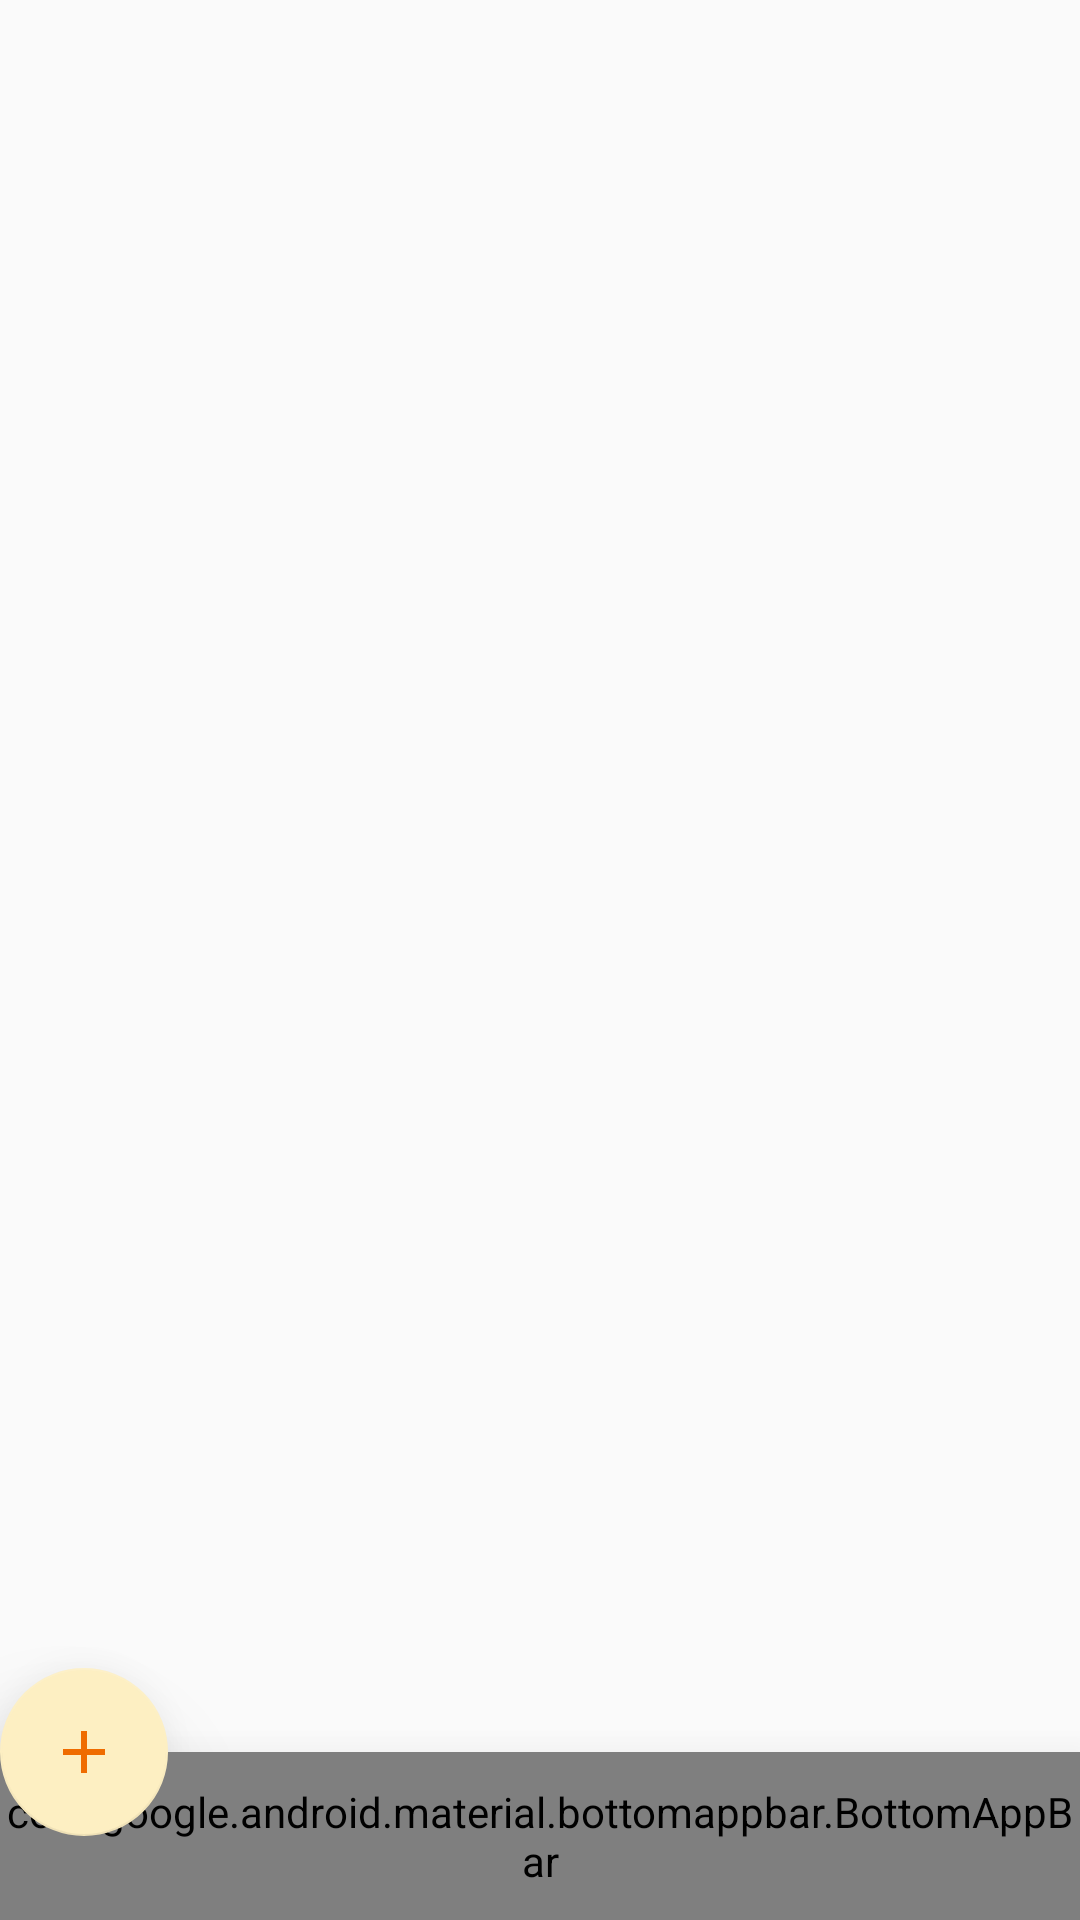

Point at icon controls on the screen. Image size 1080×1920, points as [x,y].
add: [84,1752]
